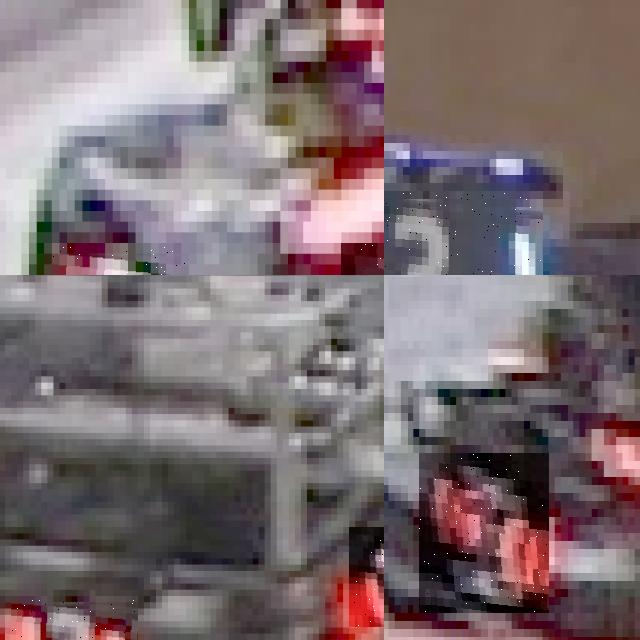B3: (384, 191, 543, 275)
R2: (5, 596, 138, 640), (349, 526, 384, 627)
R3: (419, 453, 549, 613), (52, 243, 189, 275)
